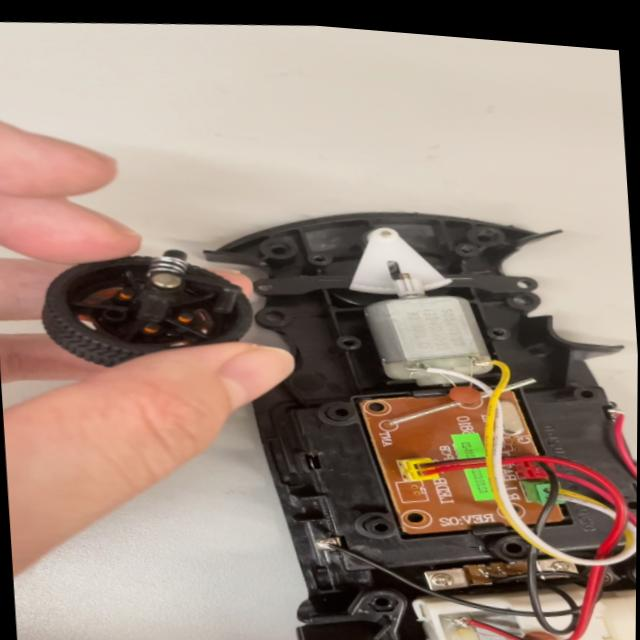motor: (352, 248, 522, 402)
wheel: (31, 231, 279, 384)
